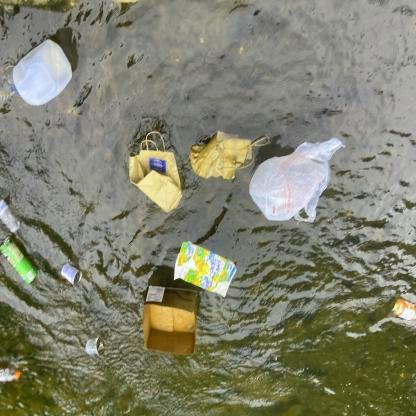Glass: (389, 293, 416, 323)
Metal: (0, 234, 41, 290), (80, 333, 106, 360), (60, 264, 84, 287)
Plastic: (244, 136, 350, 227), (6, 35, 78, 110), (0, 197, 23, 236), (0, 363, 26, 388)
Trash: (123, 125, 185, 215), (189, 132, 255, 181)
